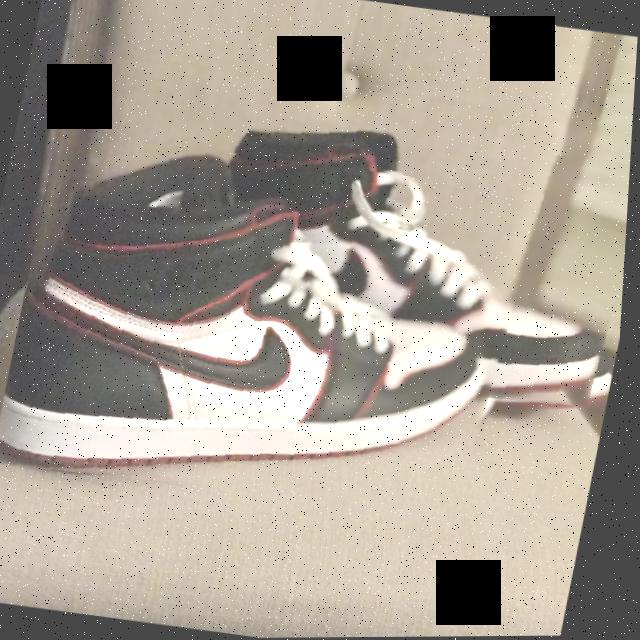shoe: (0, 126, 551, 533), (189, 109, 635, 428)
